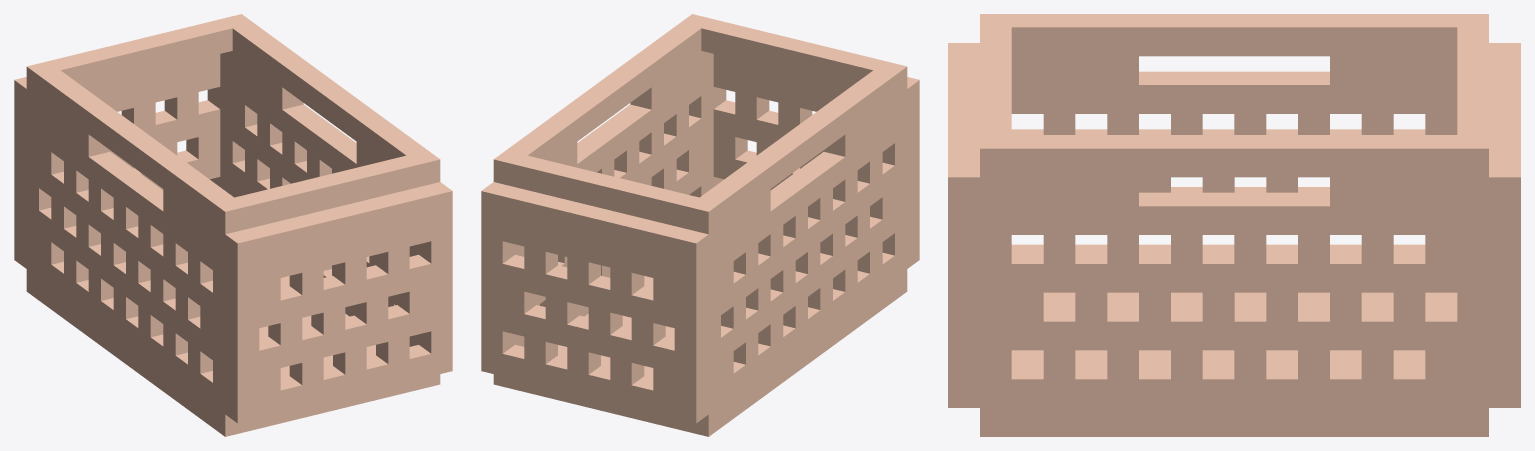
Rendered from LaundryBasket.obj.
3 views of the same model, side by side, from view 1: azimuth 30°, elevation 25°; view 2: azimuth 150°, elevation 25°; view 3: azimuth 270°, elevation 25° (orthographic). The views are drawn at different scales.
Parts seen in each view (by area): view 1: LaundryBasket; view 2: LaundryBasket; view 3: LaundryBasket.
Boxes of the visible parts, box(x1,y1,x2,y2) form: LaundryBasket: box(14, 14, 452, 436); LaundryBasket: box(481, 14, 919, 436); LaundryBasket: box(948, 14, 1520, 436).
Bounding box in the file's own units: 10 × 10 × 18.
Materials: 1 (1 with a texture image).
